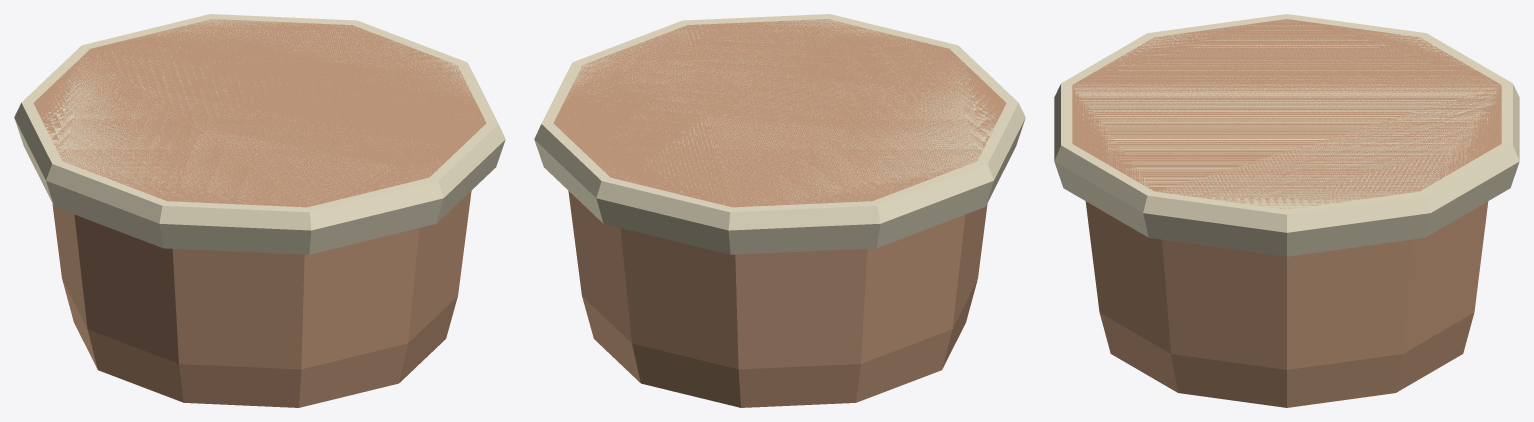
The model's file is forearm.glb.
The picture shows the model from 3 angles, left to right: view 1: azimuth 30°, elevation 25°; view 2: azimuth 150°, elevation 25°; view 3: azimuth 270°, elevation 25°; orthographic projection.
Parts seen in each view (by area): view 1: Forearm_skin, Rolled_cuff; view 2: Forearm_skin, Rolled_cuff; view 3: Forearm_skin, Rolled_cuff.
Boxes of the visible parts, x1,y1,x2,y2 form: Forearm_skin: [33, 19, 486, 407]; Rolled_cuff: [14, 14, 505, 254]; Forearm_skin: [553, 19, 1006, 407]; Rolled_cuff: [534, 14, 1025, 254]; Forearm_skin: [1072, 19, 1501, 407]; Rolled_cuff: [1054, 14, 1519, 256].
Size of the model in its own units: 2.06 by 1 by 1.96.
